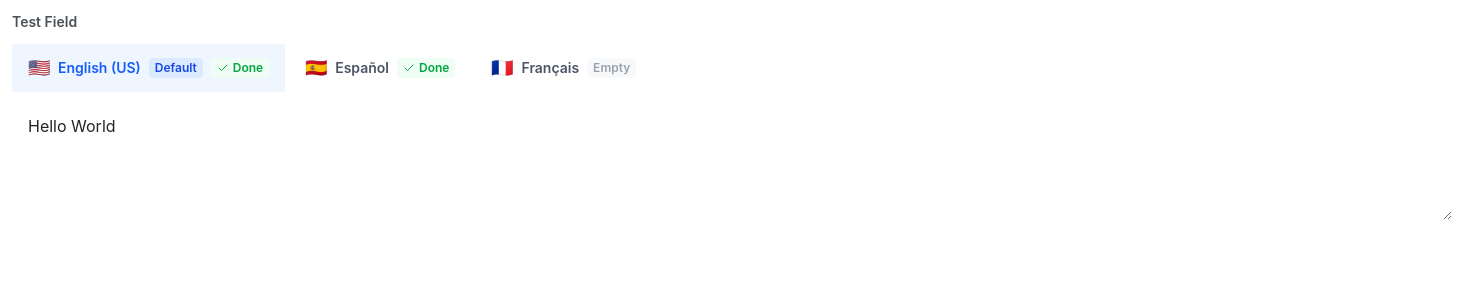
Test: TranslatableTextarea Component › Copy from Default Functionality › should show "Copied!" message after copying
# Switch to French tab
What coordinates should you click on to do the following:
click the button "🇫🇷 Français Empty"
I would click on:
 (564, 68)
Its box is [476, 44, 652, 92].
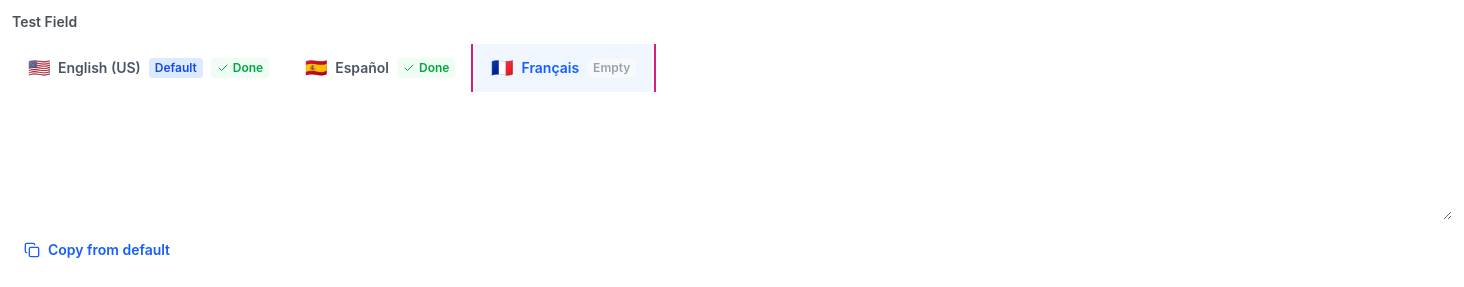
What coordinates should you click on to do the following:
click the button "Copy from default"
I would click on:
 (97, 250)
Its box is [12, 234, 182, 266].
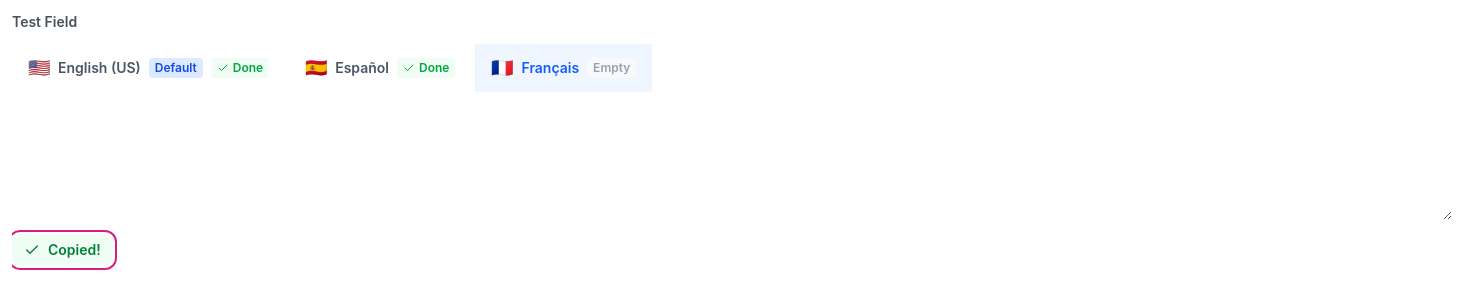
Expected: the button "Copied!" is shown, [12, 234, 113, 266]
